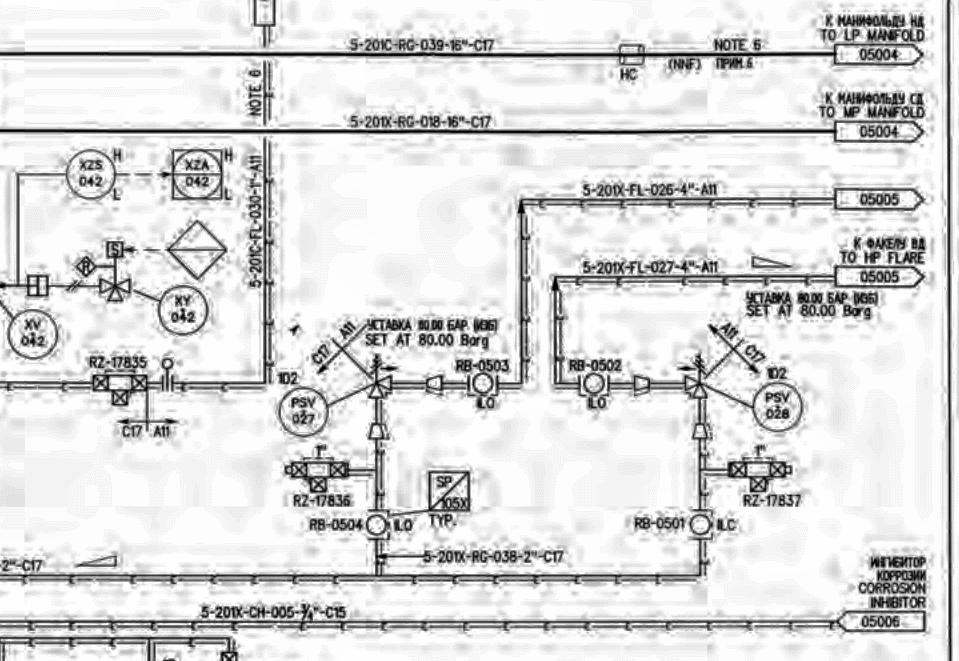2 WAY VALVE: (281, 454, 355, 498), (724, 454, 796, 497), (87, 364, 153, 407)
3 WAY GENERAL VALVE: (91, 270, 135, 309)
ANGLE RELIEF VALVE: (360, 349, 400, 406), (682, 348, 720, 406)
BLIND SPADE OPEN: (155, 352, 181, 397)
CONCENTRIC REDUCER: (628, 367, 656, 397), (364, 419, 391, 446), (689, 416, 711, 446), (421, 371, 447, 395)
DCS ACCESSIBLE: (165, 139, 231, 206)
DUPLEX RECEPTACLE: (611, 39, 654, 70)
FIELD INSTRUMENT: (57, 141, 121, 203), (155, 280, 214, 342), (5, 305, 62, 364), (750, 381, 805, 434), (276, 388, 331, 436), (575, 368, 614, 402), (360, 509, 396, 541), (685, 508, 720, 540), (470, 370, 499, 403)
HARDWIRED INTERLOCK FIELD: (72, 256, 112, 277)
HARDWIRED INTERLOCK PRIMARY.: (168, 218, 227, 280)
SPECIAL PIPING ITEM: (422, 465, 478, 511)
SPEED FLOW METER: (101, 235, 129, 267)
